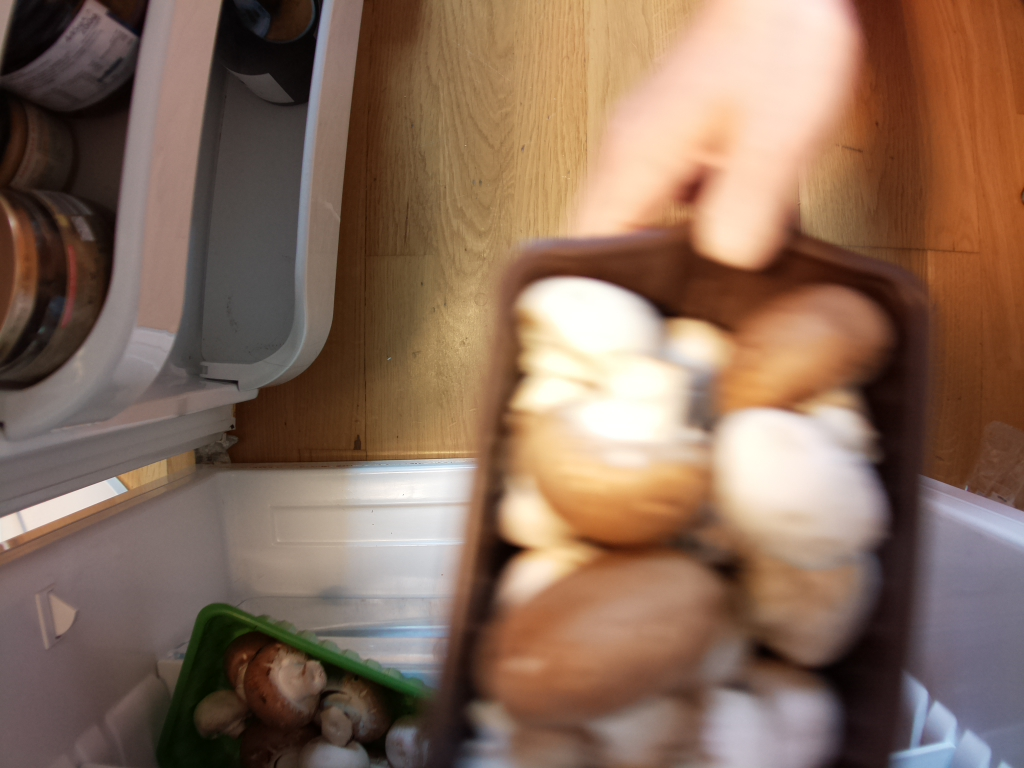mushrooms: (457, 251, 920, 768), (166, 618, 436, 768)
